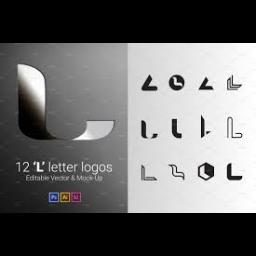l: (14, 58, 118, 146), (138, 159, 160, 191), (138, 117, 162, 145), (224, 161, 246, 185), (224, 114, 244, 140), (225, 72, 243, 96), (198, 114, 214, 140), (170, 116, 184, 144), (167, 162, 185, 182), (196, 74, 216, 92), (196, 164, 210, 182), (170, 76, 184, 88)
